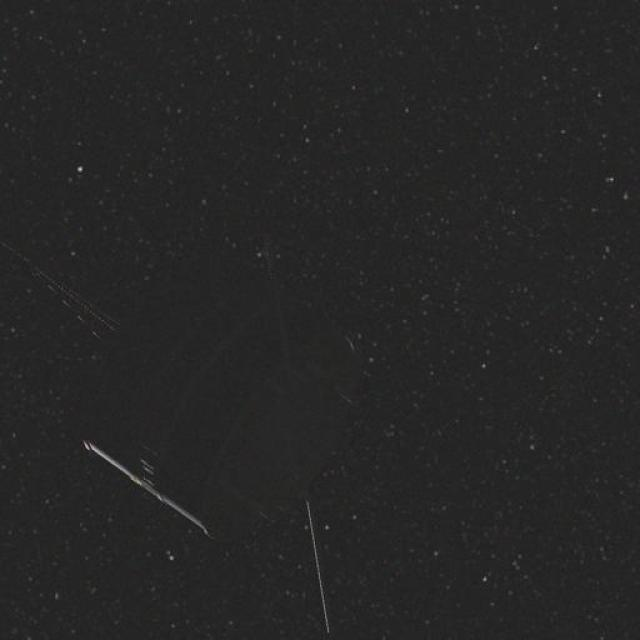double_start: (61, 308, 325, 576)
